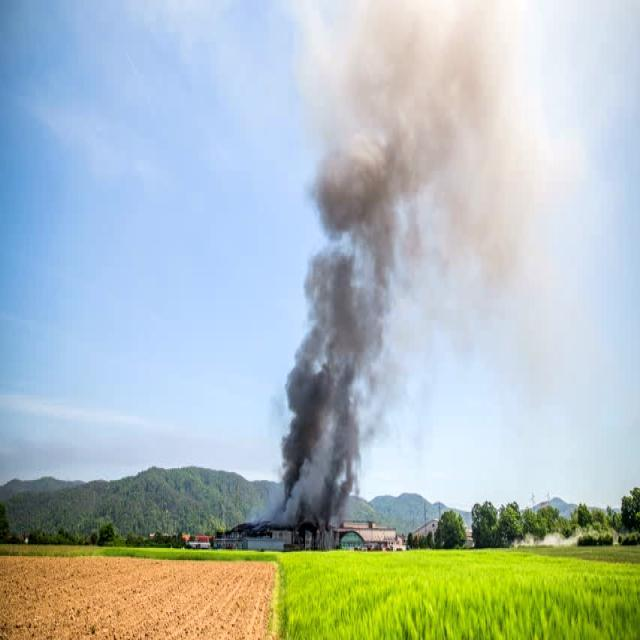Smoke: (274, 4, 464, 512)
